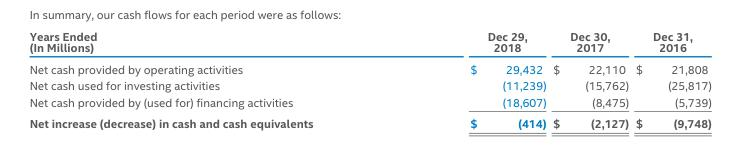table: (28, 29, 710, 130)
table column: (28, 29, 391, 130), (391, 29, 548, 130), (548, 29, 631, 130), (631, 29, 710, 130)
table column header: (28, 29, 710, 58)
table row: (28, 29, 710, 58), (28, 58, 710, 77), (28, 93, 710, 112), (28, 112, 710, 130), (28, 77, 710, 93)
